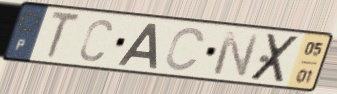A: (115, 22, 159, 71)
C: (163, 25, 208, 73), (78, 17, 115, 63)
N: (210, 29, 262, 79)
T: (44, 10, 84, 62)
X: (246, 32, 304, 85)
